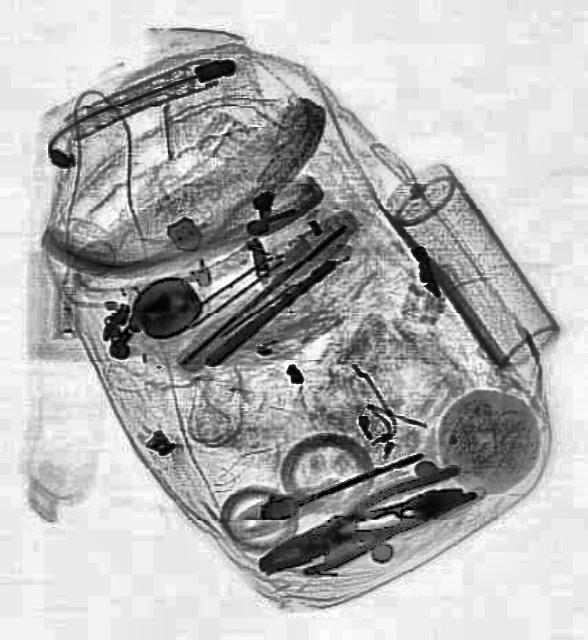Pliers: (248, 457, 478, 588), (286, 466, 470, 580)
